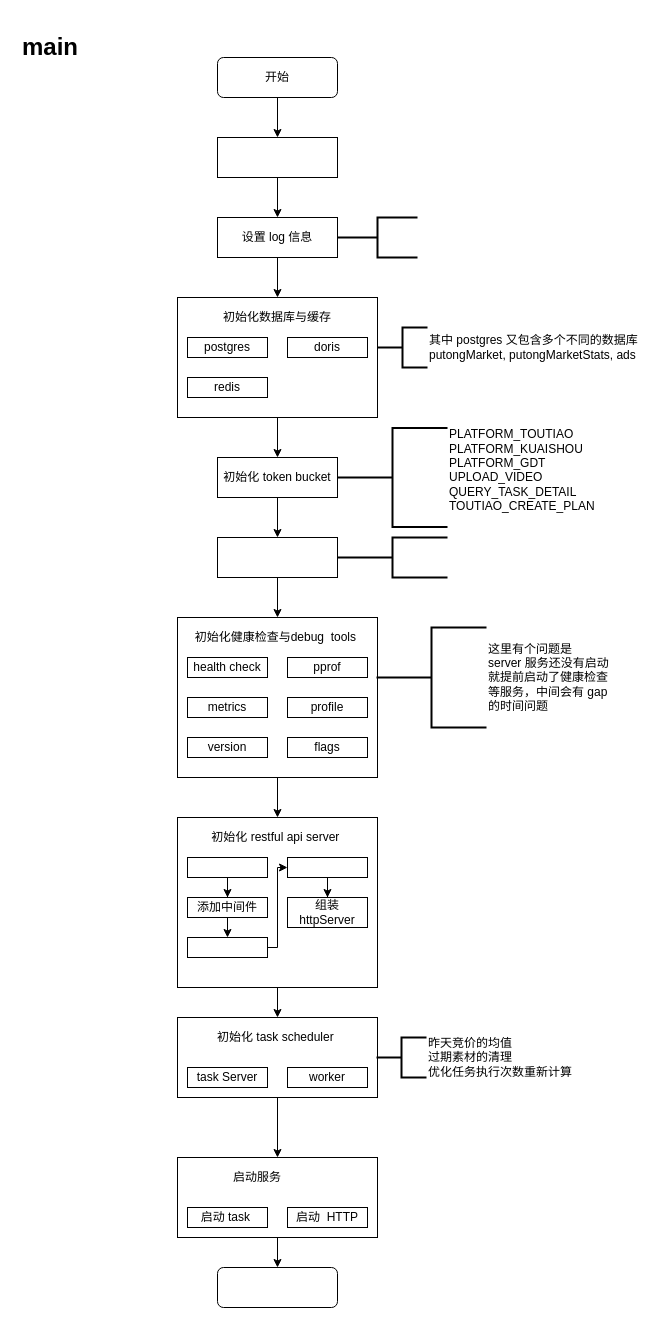
The diagram is 656 pixels wide and 1325 high, and some of its shapes have lost their labels. The shapes that lost their labels are listed below. From the top down, each one's box as (x1, y1, x2, y2) in pixels, then its label:
(216, 136, 338, 178): 加载配置文件
(336, 216, 418, 258): 主要包括 localPrint，debugMode, Counter, dingding 相关的日志配置
(216, 536, 338, 578): third party 初始化
(336, 536, 448, 578): 主要是 task 相关, 见单独的图
(186, 856, 268, 878): 设置 trace
(286, 856, 368, 878): 获得 listener
(186, 936, 268, 958): 初始化路由
(216, 1266, 338, 1308): 结束
